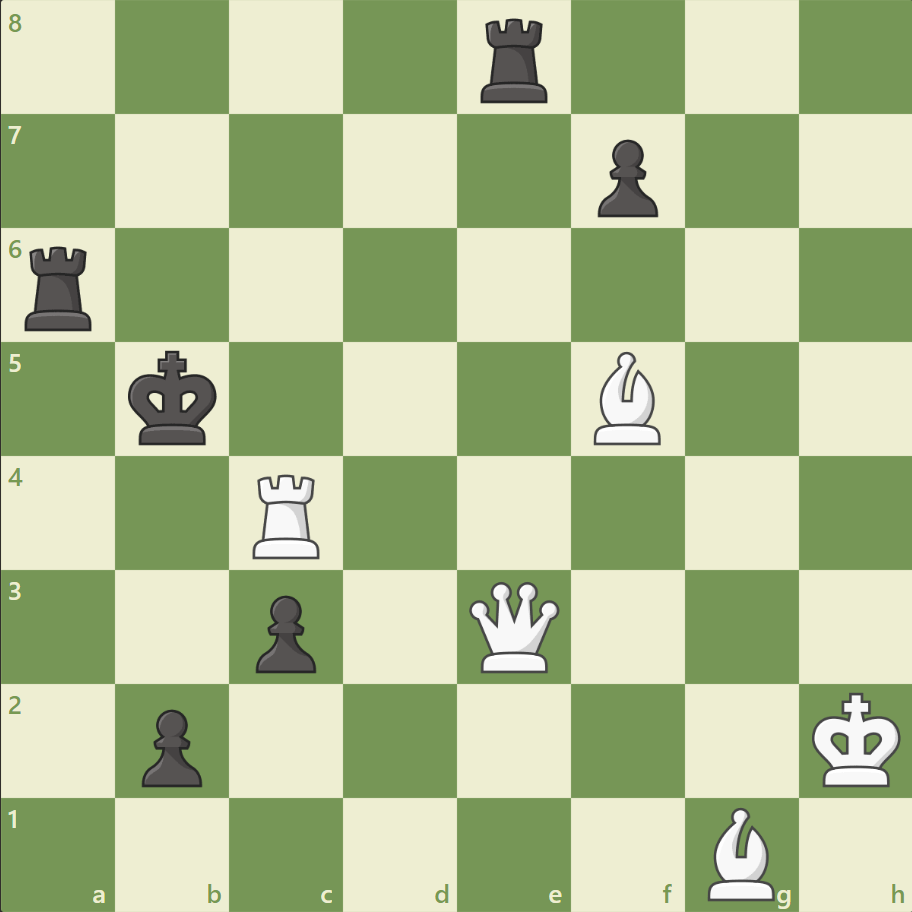B: (698, 801, 782, 904), (585, 347, 669, 449)
K: (806, 685, 906, 793)
Q: (464, 576, 563, 676)
R: (246, 466, 329, 563)
k: (124, 344, 224, 452)
p: (247, 586, 322, 677), (133, 700, 208, 791), (588, 132, 662, 223)
r: (473, 12, 556, 109), (19, 239, 102, 336)
